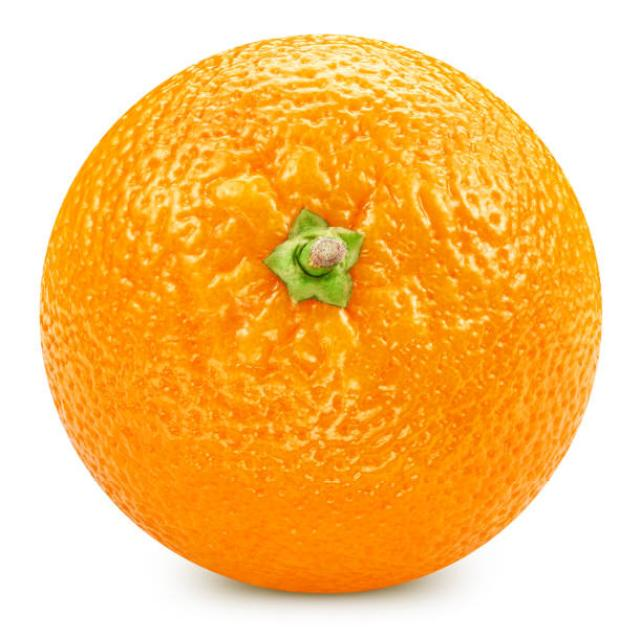Ripe: (37, 19, 600, 598)
